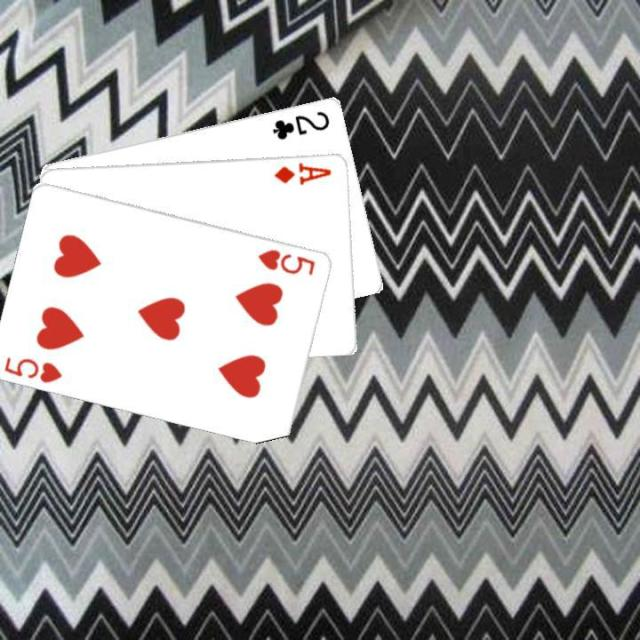2C: (268, 107, 332, 141)
5H: (255, 245, 318, 278), (1, 353, 65, 385)
AD: (271, 158, 333, 186)
